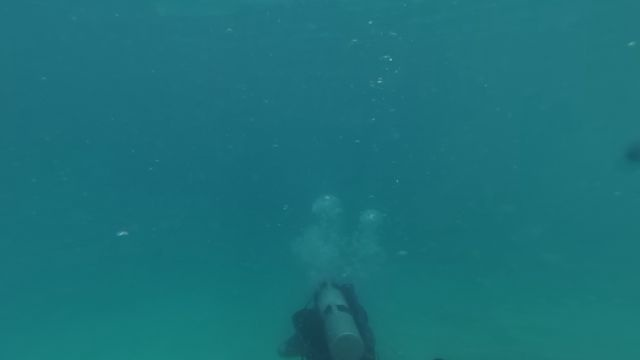Diver: (260, 238, 398, 359)
